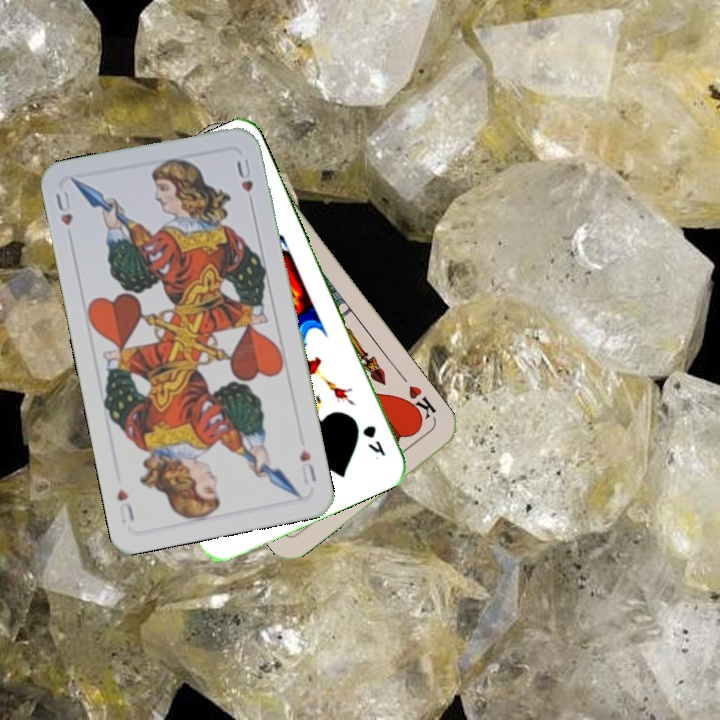GK: (358, 421, 388, 458)
HK: (399, 381, 439, 426)
HU: (51, 185, 76, 228), (295, 445, 319, 487)
